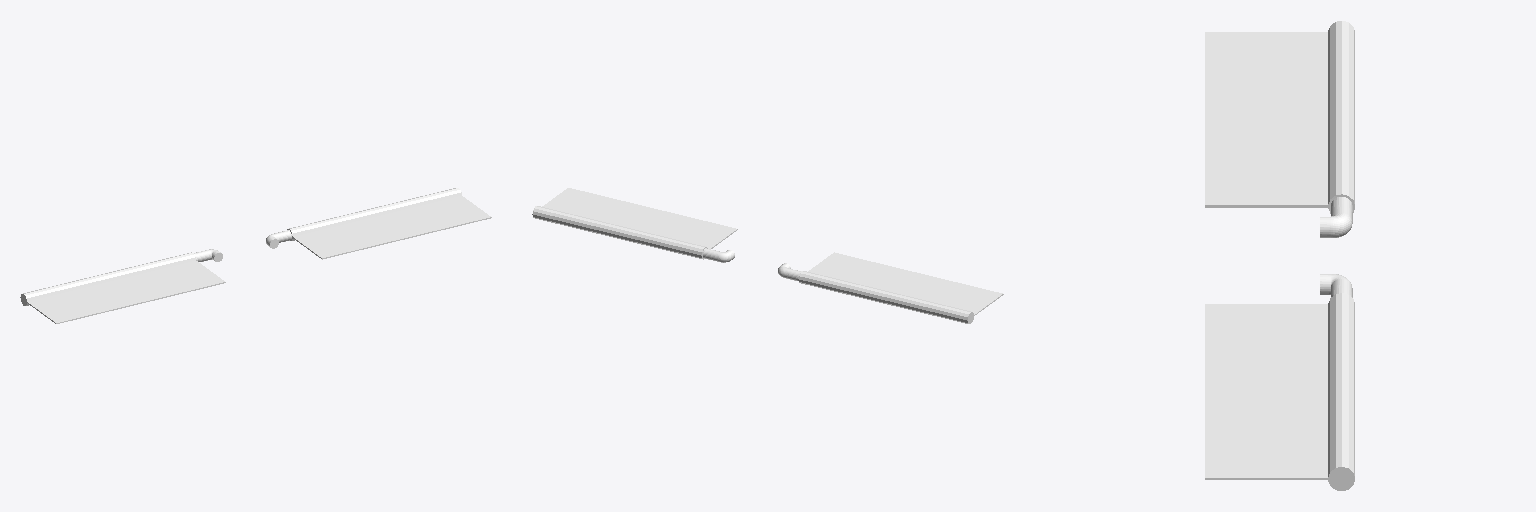
robot.urdf — URDF_Bodies2.SLDASM:
<?xml version="1.0" encoding="utf-8"?>
<!-- This URDF was automatically created by SolidWorks to URDF Exporter! Originally created by [author] ([email redacted]) 
     Commit Version: 1.6.0-4-g7f85cfe  Build Version: 1.6.7995.38578
     For more information, please see http://wiki.ros.org/sw_urdf_exporter -->
<robot
  name="URDF_Bodies2.SLDASM">
  <link
    name="base_link">
    <inertial>
      <origin
        xyz="1.287E-17 -0.125 1.1123E-17"
        rpy="0 0 0" />
      <mass
        value="3.7513" />
      <inertia
        ixx="0.020361"
        ixy="0"
        ixz="0"
        iyy="0.027094"
        iyz="1.1459E-18"
        izz="0.045808" />
    </inertial>
    <visual>
      <origin
        xyz="0 0 0"
        rpy="0 0 0" />
      <geometry>
        <mesh
          filename="package://URDF_Bodies2.SLDASM/meshes/base_link.STL" />
      </geometry>
      <material
        name="">
        <color
          rgba="1 1 1 1" />
      </material>
    </visual>
    <collision>
      <origin
        xyz="0 0 0"
        rpy="0 0 0" />
      <geometry>
        <mesh
          filename="package://URDF_Bodies2.SLDASM/meshes/base_link.STL" />
      </geometry>
    </collision>
  </link>
  <link
    name="RW_Flap">
    <inertial>
      <origin
        xyz="0.032766 0.034001 -8.7011E-19"
        rpy="0 0 0" />
      <mass
        value="0.15563" />
      <inertia
        ixx="4.7427E-05"
        ixy="-3.1144E-05"
        ixz="-3.1293E-21"
        iyy="0.00016366"
        iyz="-6.839E-22"
        izz="0.00017996" />
    </inertial>
    <visual>
      <origin
        xyz="0 0 0"
        rpy="0 0 0" />
      <geometry>
        <mesh
          filename="package://URDF_Bodies2.SLDASM/meshes/RW_Flap.STL" />
      </geometry>
      <material
        name="">
        <color
          rgba="1 1 1 1" />
      </material>
    </visual>
    <collision>
      <origin
        xyz="0 0 0"
        rpy="0 0 0" />
      <geometry>
        <mesh
          filename="package://URDF_Bodies2.SLDASM/meshes/RW_Flap.STL" />
      </geometry>
    </collision>
  </link>
  <joint
    name="RW_J_Flap"
    type="revolute">
    <origin
      xyz="0.12329 0 0"
      rpy="0 0 0" />
    <parent
      link="base_link" />
    <child
      link="RW_Flap" />
    <axis
      xyz="0 -1 0" />
    <limit
      lower="0"
      upper="0"
      effort="0"
      velocity="0" />
  </joint>
  <link
    name="RW_Pitch">
    <inertial>
      <origin
        xyz="0.375 -0.050083 7.3865E-18"
        rpy="0 0 0" />
      <mass
        value="2.3629" />
      <inertia
        ixx="0.014446"
        ixy="6.0467E-18"
        ixz="4.4759E-19"
        iyy="0.111"
        iyz="7.9212E-19"
        izz="0.12497" />
    </inertial>
    <visual>
      <origin
        xyz="0 0 0"
        rpy="0 0 0" />
      <geometry>
        <mesh
          filename="package://URDF_Bodies2.SLDASM/meshes/RW_Pitch.STL" />
      </geometry>
      <material
        name="">
        <color
          rgba="1 1 1 1" />
      </material>
    </visual>
    <collision>
      <origin
        xyz="0 0 0"
        rpy="0 0 0" />
      <geometry>
        <mesh
          filename="package://URDF_Bodies2.SLDASM/meshes/RW_Pitch.STL" />
      </geometry>
    </collision>
  </link>
  <joint
    name="RW_J_Pitch"
    type="revolute">
    <origin
      xyz="0.09 0.04 0"
      rpy="0 0 0" />
    <parent
      link="RW_Flap" />
    <child
      link="RW_Pitch" />
    <axis
      xyz="-1 0 0" />
    <limit
      lower="0"
      upper="0"
      effort="0"
      velocity="0" />
  </joint>
  <link
    name="LW_Flap">
    <inertial>
      <origin
        xyz="0 0 0"
        rpy="0 0 0" />
      <mass
        value="0" />
      <inertia
        ixx="0"
        ixy="0"
        ixz="0"
        iyy="0"
        iyz="0"
        izz="0" />
    </inertial>
    <visual>
      <origin
        xyz="0 0 0"
        rpy="0 0 0" />
      <geometry>
        <mesh
          filename="package://URDF_Bodies2.SLDASM/meshes/LW_Flap.STL" />
      </geometry>
      <material
        name="">
        <color
          rgba="1 1 1 1" />
      </material>
    </visual>
    <collision>
      <origin
        xyz="0 0 0"
        rpy="0 0 0" />
      <geometry>
        <mesh
          filename="package://URDF_Bodies2.SLDASM/meshes/LW_Flap.STL" />
      </geometry>
    </collision>
  </link>
  <joint
    name="LW_J_Flap"
    type="revolute">
    <origin
      xyz="-0.12329 0 0"
      rpy="0 0 0" />
    <parent
      link="base_link" />
    <child
      link="LW_Flap" />
    <axis
      xyz="0 -1 0" />
    <limit
      lower="0"
      upper="0"
      effort="0"
      velocity="0" />
  </joint>
  <link
    name="LW_Pitch">
    <inertial>
      <origin
        xyz="-0.375 -0.050083 1.3712E-18"
        rpy="0 0 0" />
      <mass
        value="2.3629" />
      <inertia
        ixx="0.014446"
        ixy="6.0467E-18"
        ixz="4.4759E-19"
        iyy="0.111"
        iyz="-8.8618E-19"
        izz="0.12497" />
    </inertial>
    <visual>
      <origin
        xyz="0 0 0"
        rpy="0 0 0" />
      <geometry>
        <mesh
          filename="package://URDF_Bodies2.SLDASM/meshes/LW_Pitch.STL" />
      </geometry>
      <material
        name="">
        <color
          rgba="1 1 1 1" />
      </material>
    </visual>
    <collision>
      <origin
        xyz="0 0 0"
        rpy="0 0 0" />
      <geometry>
        <mesh
          filename="package://URDF_Bodies2.SLDASM/meshes/LW_Pitch.STL" />
      </geometry>
    </collision>
  </link>
  <joint
    name="LW_J_Pitch"
    type="revolute">
    <origin
      xyz="-0.09 0.04 0"
      rpy="0 0 0" />
    <parent
      link="LW_Flap" />
    <child
      link="LW_Pitch" />
    <axis
      xyz="1 0 0" />
    <limit
      lower="0"
      upper="0"
      effort="0"
      velocity="0" />
  </joint>
</robot>

--- Facts derived from the render (not from the file) ---
The picture shows the robot from 3 angles, left to right: view 1: azimuth 30°, elevation 25°; view 2: azimuth 150°, elevation 25°; view 3: azimuth 270°, elevation 25°; orthographic projection.
Robot: URDF_Bodies2.SLDASM — 5 links, 4 joints (4 revolute); root link base_link; default pose: all joints at 0.
Links seen in each view (by area): view 1: LW_Pitch, RW_Pitch; view 2: LW_Pitch, RW_Pitch; view 3: RW_Pitch, LW_Pitch, LW_Flap, RW_Flap.
Link boxes in pixels (x1,y1,x2,y2): LW_Pitch: (20, 252, 225, 323); RW_Pitch: (287, 188, 491, 259); LW_Pitch: (798, 252, 1003, 323); RW_Pitch: (532, 188, 737, 259); RW_Pitch: (1205, 293, 1354, 490); LW_Pitch: (1205, 21, 1354, 213); LW_Flap: (1320, 197, 1352, 237); RW_Flap: (1320, 274, 1352, 297).
Size in the robot's own frame: 1.93 by 0.275 by 0.0499 metres.
4 mesh visuals loaded from 5 distinct referenced files (4 binary STL); not drawn: 1 (reference not matched to a file when rendering).